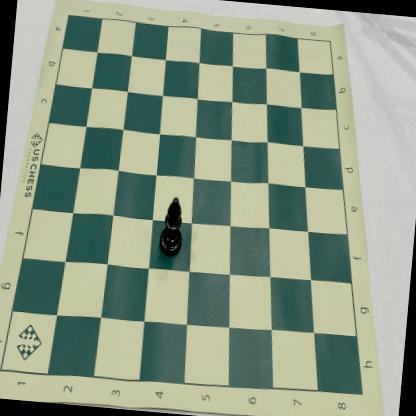black-bishop: (158, 195, 186, 258)
